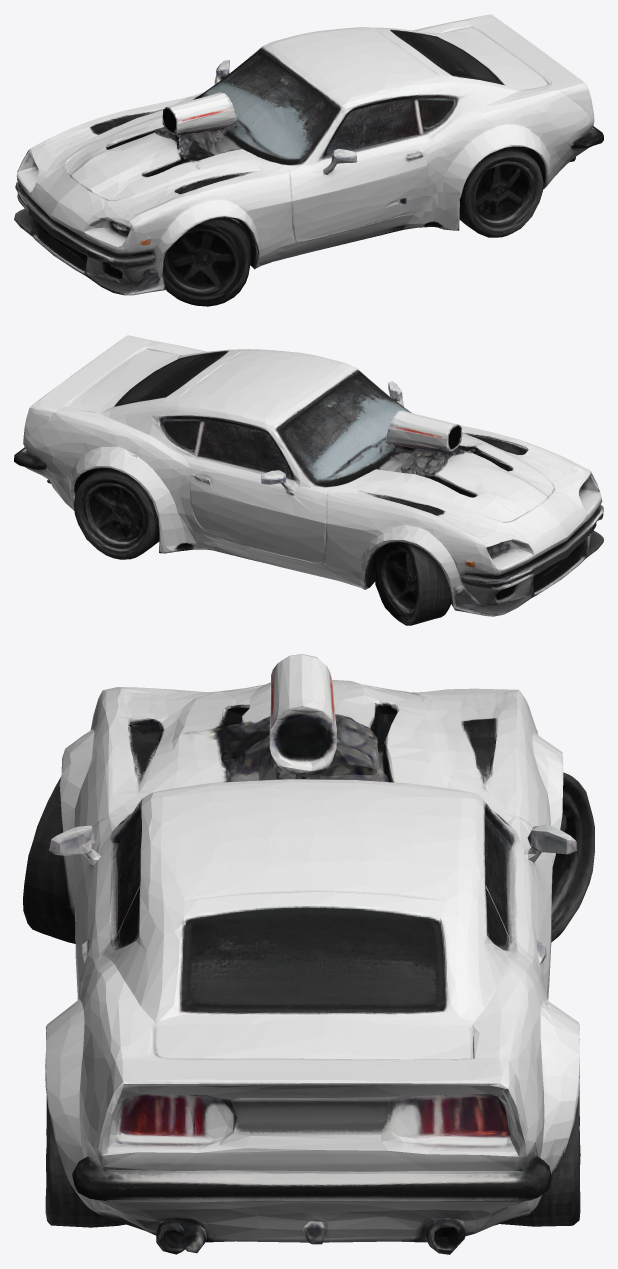
The picture shows the model from 3 angles, top to bottom: view 1: azimuth 30°, elevation 25°; view 2: azimuth 150°, elevation 25°; view 3: azimuth 270°, elevation 25°; orthographic projection. The views are drawn at different scales.
Visible parts, largest first — view 1: world; view 2: world; view 3: world.
Part boxes in pixels (box(x1,y1,x2,y2)): world: box(14, 14, 603, 306); world: box(14, 335, 603, 625); world: box(23, 654, 594, 1254).
Size of the model in its own units: 1 by 0.2993 by 0.4977.
Materials: 1 (1 with a texture image).
